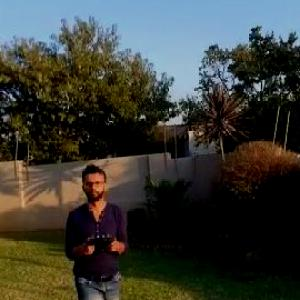follow: (64, 158, 136, 299)
